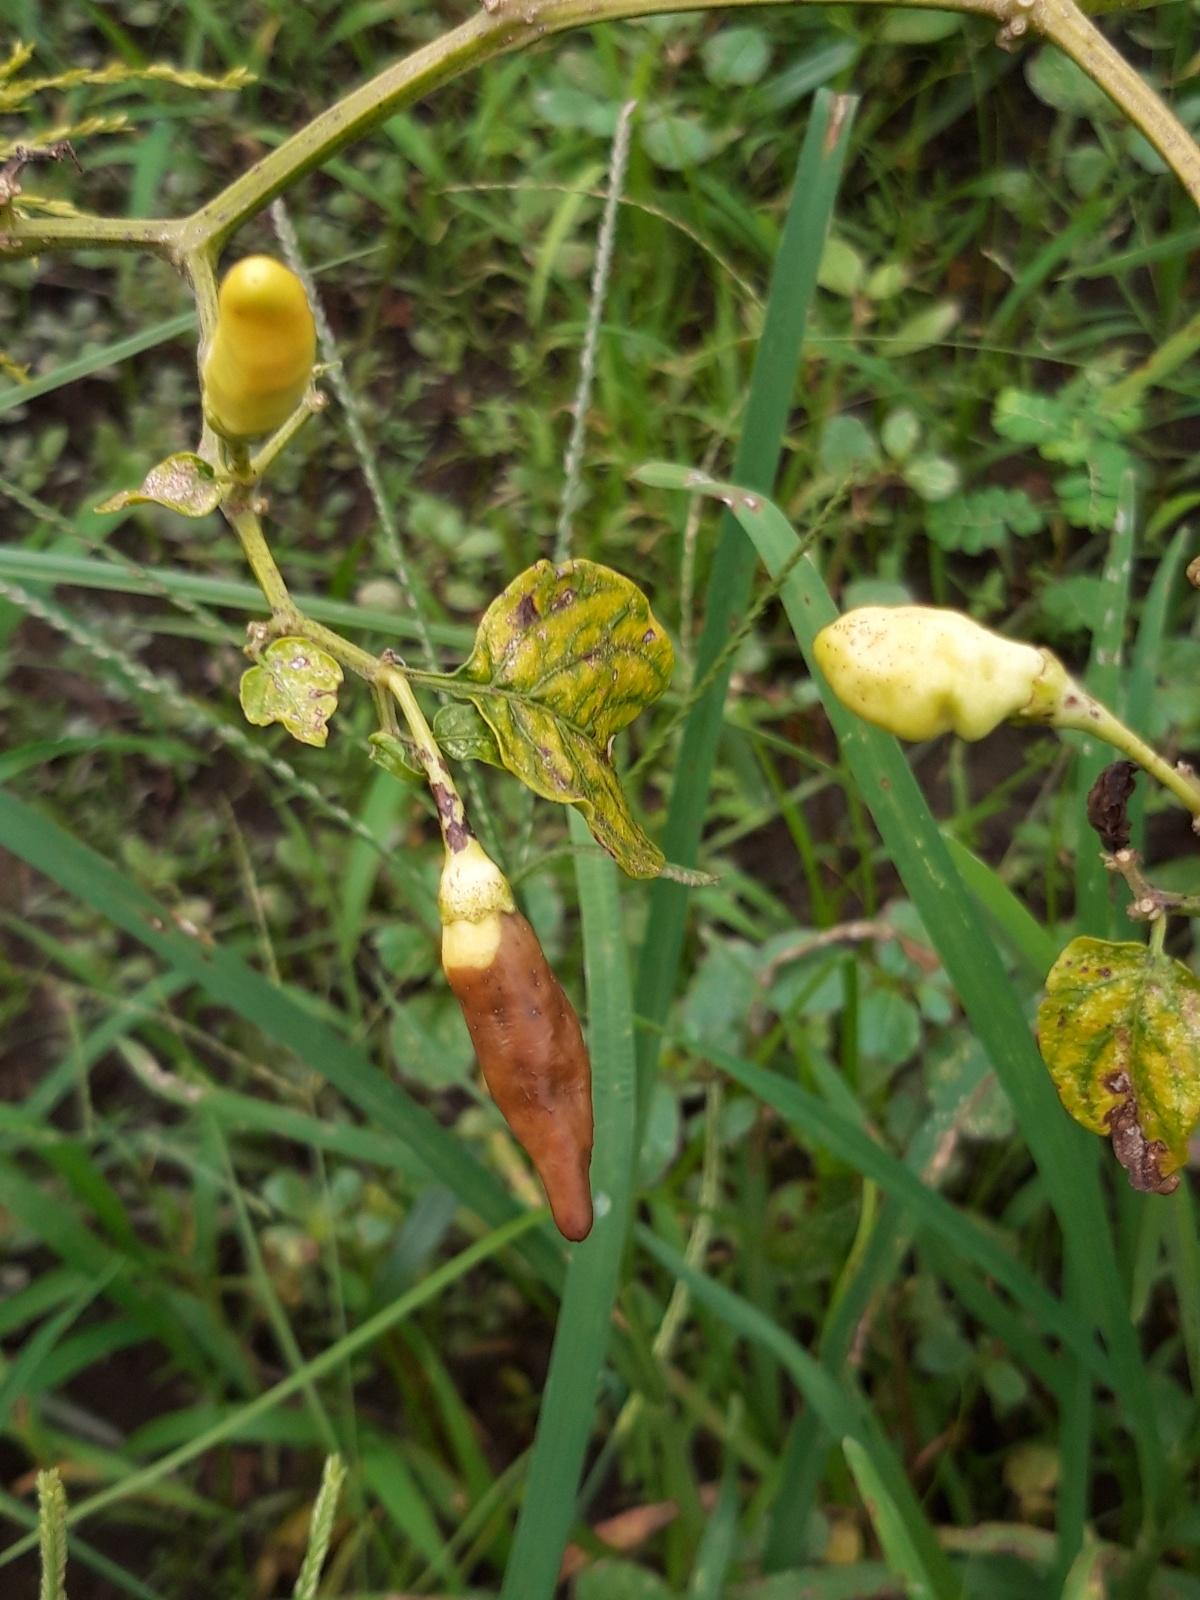cabai_normal: (811, 603, 1060, 746), (198, 256, 313, 447)
lalat_buah: (435, 854, 599, 1246)
